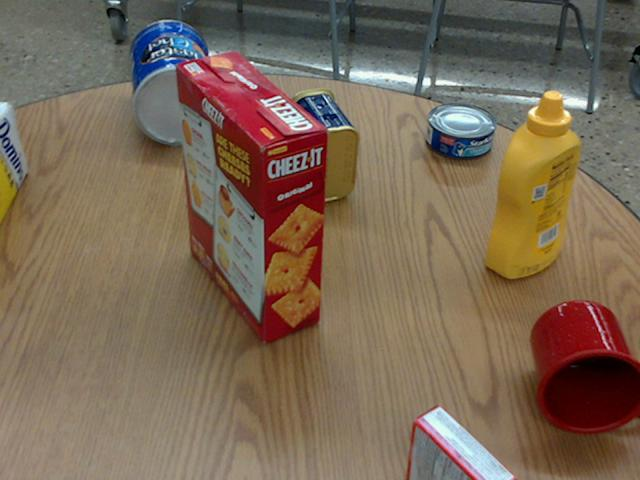cracker_box: (179, 53, 330, 342)
gelatin_box: (407, 407, 515, 479)
master_chef_can: (131, 21, 221, 145)
mug: (530, 300, 639, 433)
mustard_bottle: (485, 91, 580, 276)
potted_meat_can: (288, 87, 360, 200)
sugar_box: (0, 102, 28, 227)
tuna_fish_can: (426, 101, 496, 159)
